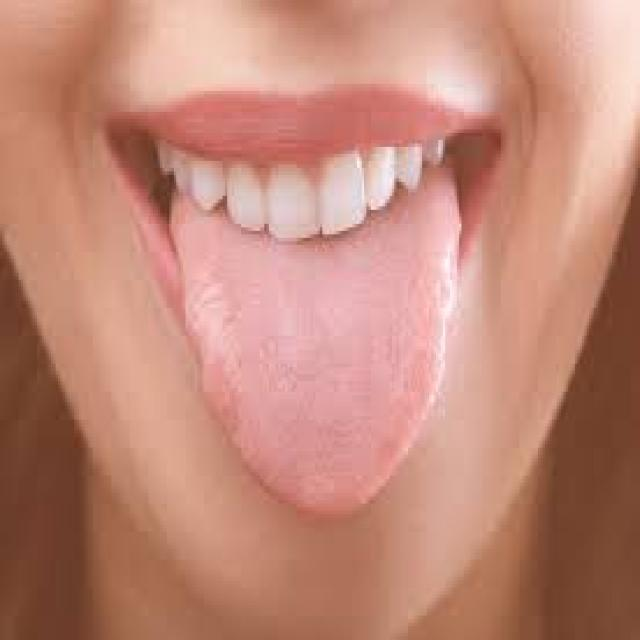normal_tongue: (141, 112, 562, 554)
